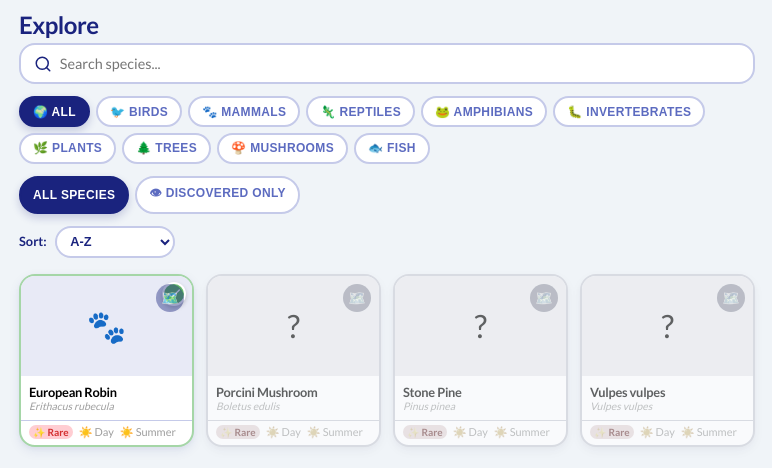
Test: ChecklistPage › filter by MAMMALS category works
Click the button "🐾 Mammals": (244,112) x1=188 y1=96 x2=300 y2=127
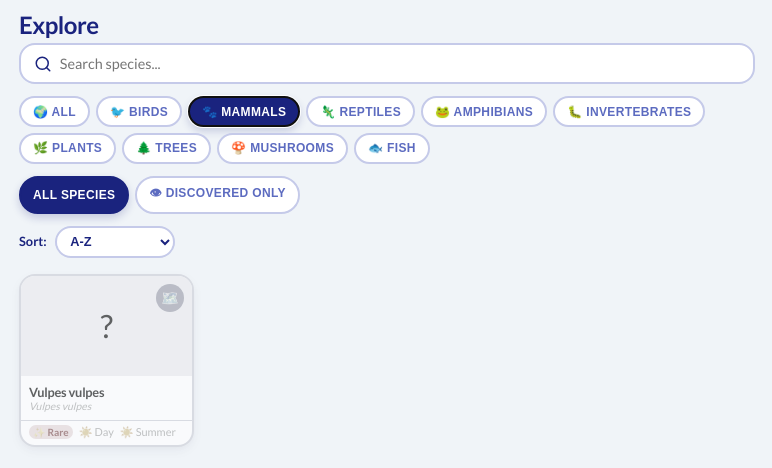
Expected: the button "European Robin" is gone
Expected: the button "Porcini Mushroom" is gone
